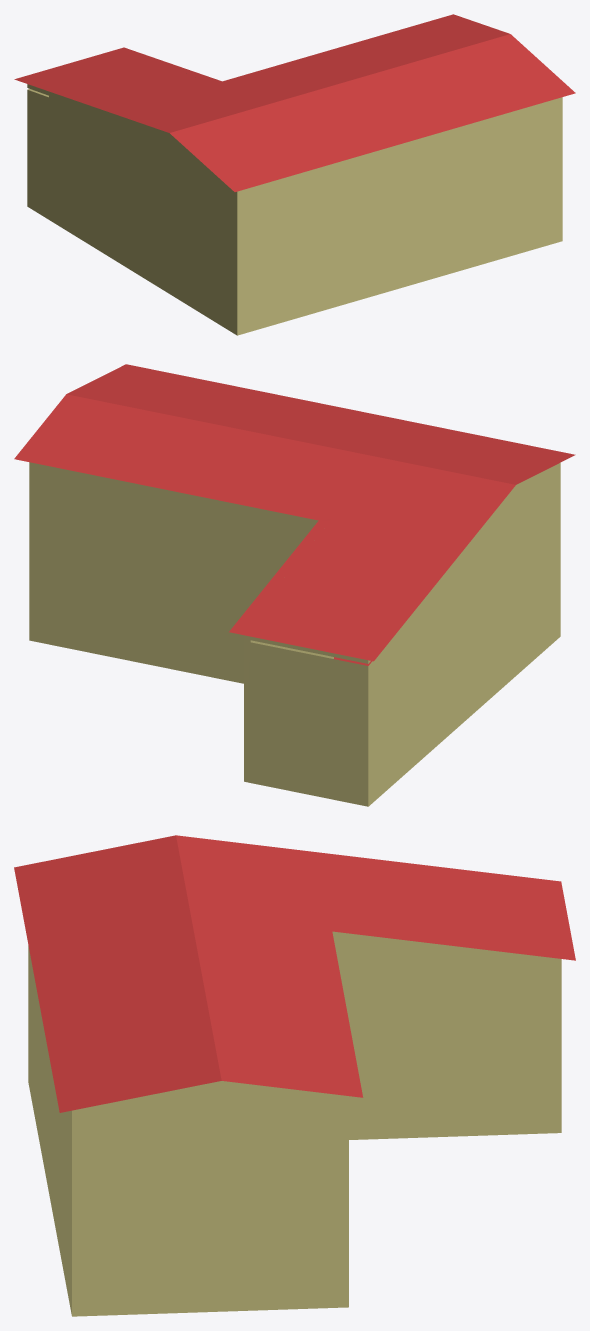
3 renders of one model, top to bottom at view 1: azimuth 30°, elevation 25°; view 2: azimuth 150°, elevation 25°; view 3: azimuth 270°, elevation 25°, orthographic. The views are drawn at different scales.
Bounding box in the file's own units: 23.34 × 21.02 × 9.76.
